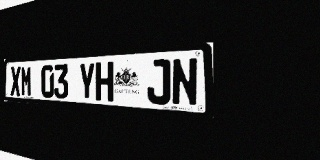0: (41, 65, 54, 98)
3: (54, 64, 68, 99)
H: (96, 62, 113, 102)
J: (147, 59, 171, 105)
M: (21, 66, 32, 97)
N: (172, 57, 198, 107)
X: (11, 66, 21, 96)
Y: (79, 62, 95, 101)
